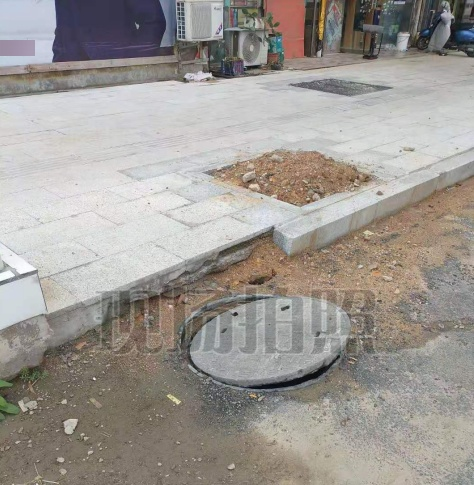uncovered: (177, 292, 350, 392)
